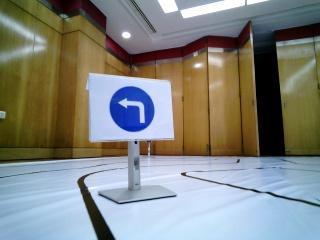left: (93, 82, 172, 136)
